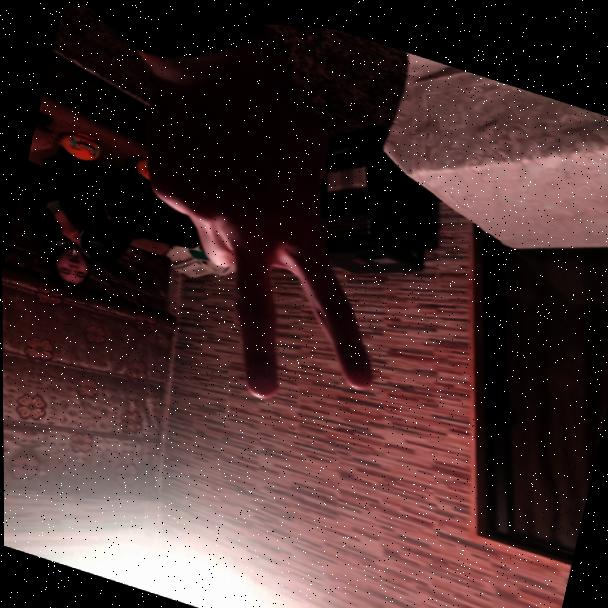two: (115, 57, 433, 427)
